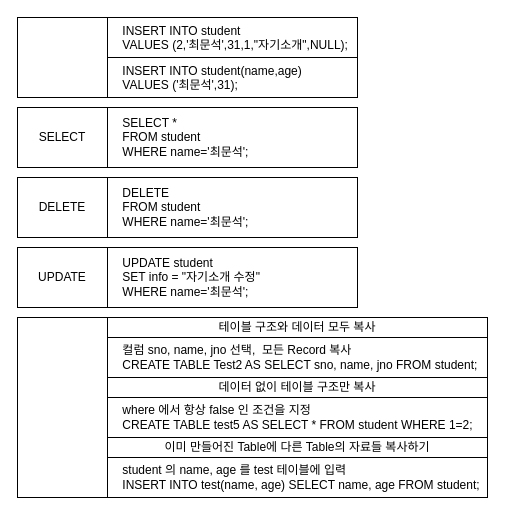
The diagram is 505 pixels wide and 515 high, and some of its shapes have lost their labels. Each missing label, with the centre of its shape:
INSERT: point 62,57
테이블 복사: point 62,407
